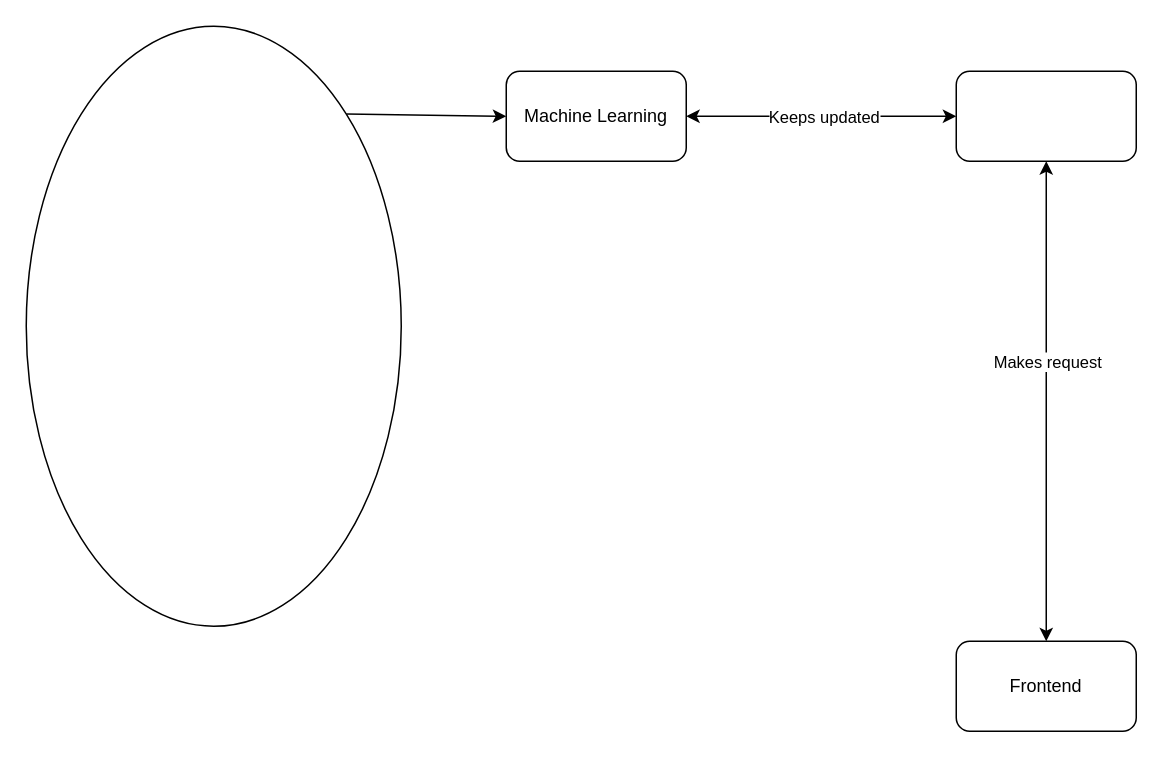
Image size: 1163x758. Some labels were removed from this diagram. The shapes that lost their labels are listed below. From the top down, each one's box as (x1, y1, x2, y2) in pixels, then its label:
(955, 70, 1136, 161): Backend
(25, 25, 401, 626): Camera System
